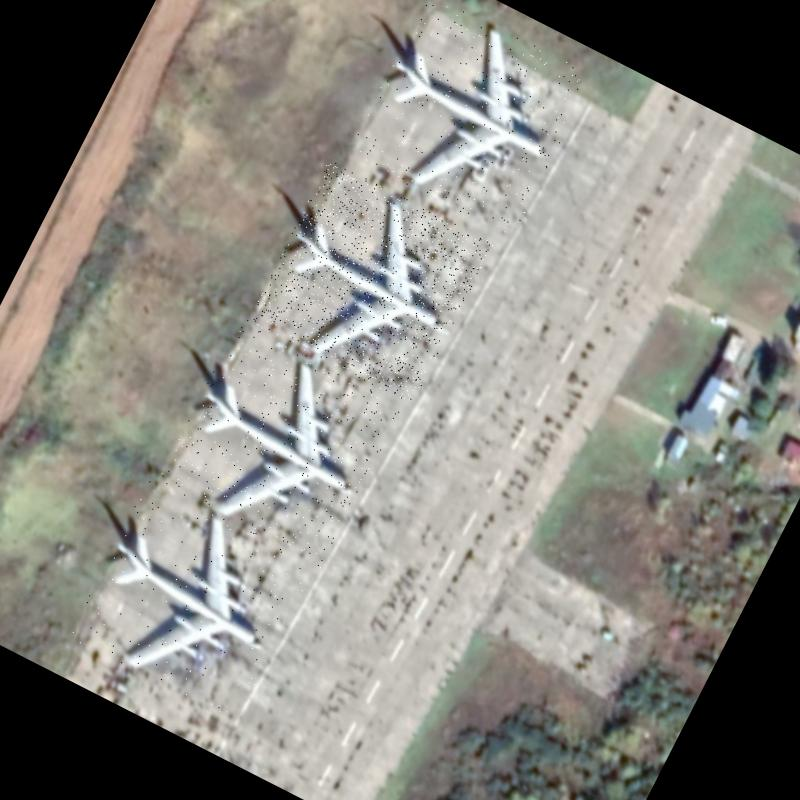A17: (66, 474, 318, 722), (154, 320, 404, 568), (246, 159, 494, 404), (345, 0, 594, 238)
